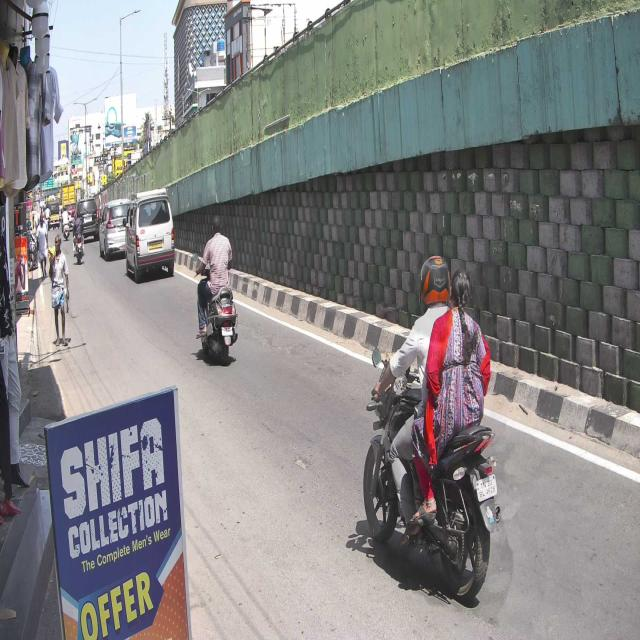double_rider: (364, 252, 502, 602)
single_rider: (192, 215, 238, 365)
